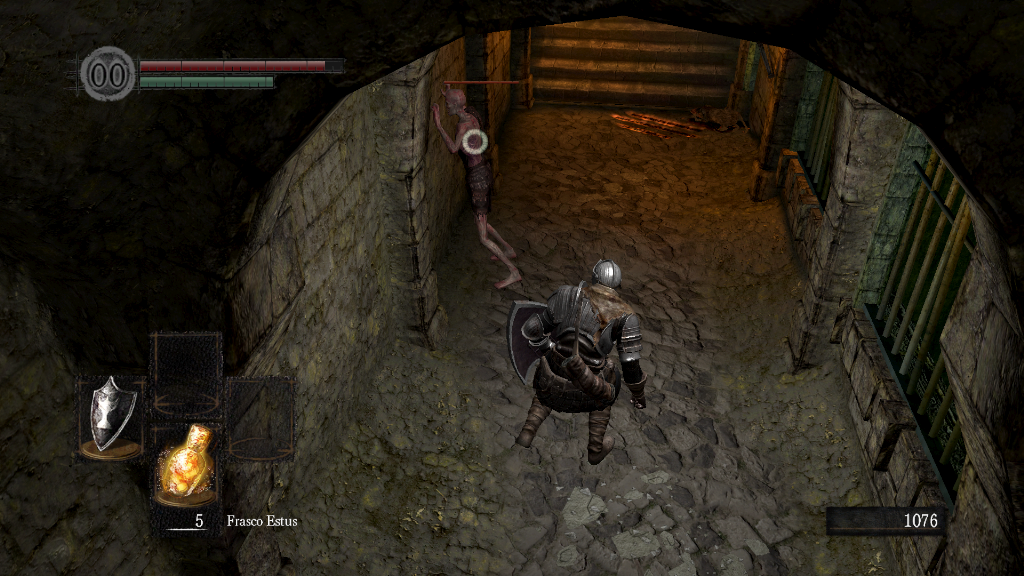health: (138, 58, 343, 71)
hollow: (429, 81, 527, 291)
humanity: (80, 45, 136, 102)
player: (505, 257, 651, 465)
souls: (825, 506, 945, 536)
stamina: (138, 74, 274, 88)
